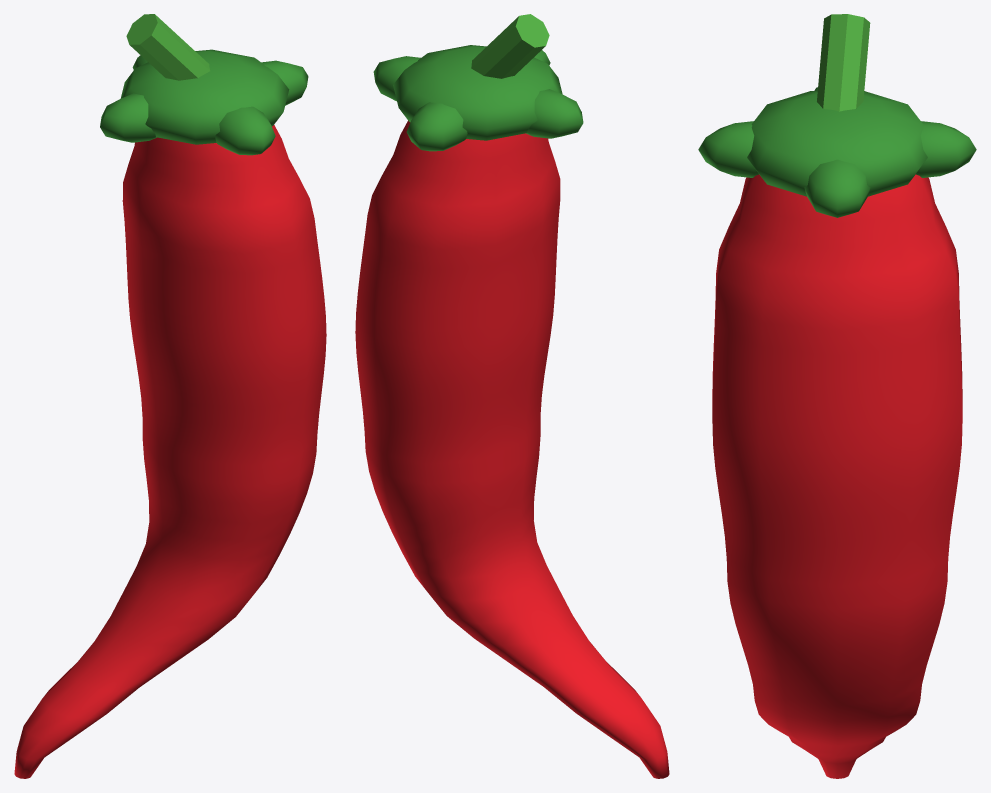
File: chili-candy.glb
The picture shows the model from 3 angles, left to right: view 1: azimuth 30°, elevation 25°; view 2: azimuth 150°, elevation 25°; view 3: azimuth 270°, elevation 25°; orthographic projection. The views are drawn at different scales.
Visible parts, largest first — view 1: continuous red chili, green calyx, stem, calyx lobe.003, calyx lobe.002, calyx lobe; view 2: continuous red chili, green calyx, stem, calyx lobe.001, calyx lobe.002, calyx lobe; view 3: continuous red chili, green calyx, stem, calyx lobe, calyx lobe.001, calyx lobe.003.
Part boxes in pixels (left/top/right/bottom): continuous red chili: left=14, top=125, right=326, bottom=778; green calyx: left=120, top=49, right=289, bottom=144; stem: left=126, top=14, right=210, bottom=80; calyx lobe.003: left=215, top=106, right=275, bottom=155; calyx lobe.002: left=100, top=93, right=156, bottom=142; calyx lobe: left=261, top=60, right=308, bottom=105; continuous red chili: left=355, top=120, right=669, bottom=778; green calyx: left=393, top=45, right=562, bottom=140; stem: left=471, top=14, right=549, bottom=78; calyx lobe.001: left=406, top=102, right=467, bottom=151; calyx lobe.002: left=526, top=89, right=583, bottom=138; calyx lobe: left=373, top=56, right=420, bottom=101; continuous red chili: left=712, top=174, right=962, bottom=778; green calyx: left=747, top=91, right=927, bottom=196; stem: left=817, top=14, right=870, bottom=111; calyx lobe: left=804, top=159, right=870, bottom=217; calyx lobe.001: left=916, top=121, right=976, bottom=177; calyx lobe.003: left=698, top=121, right=758, bottom=177.
Bounding box in the file's own units: 0.202 × 0.4779 × 0.144.
